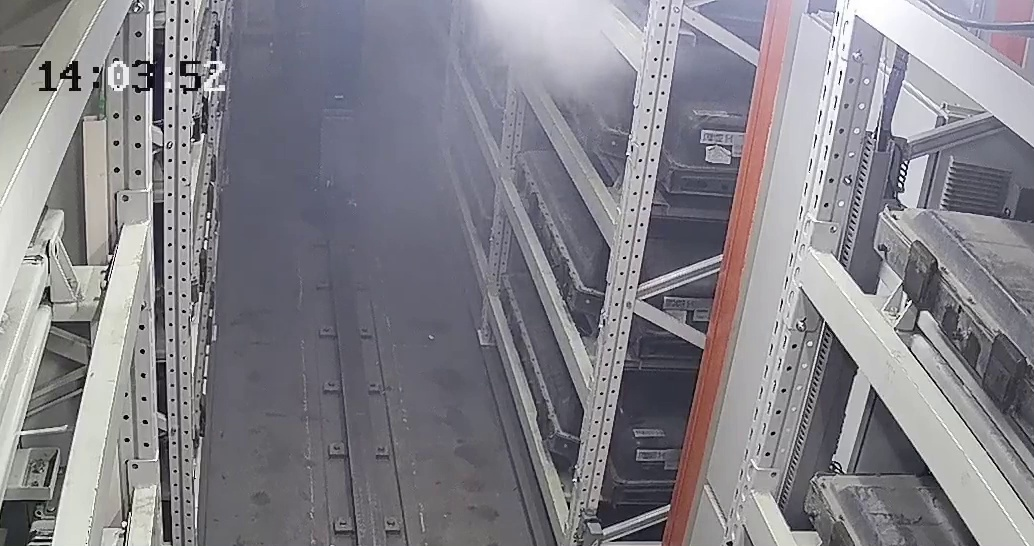smoke: (469, 9, 606, 114)
